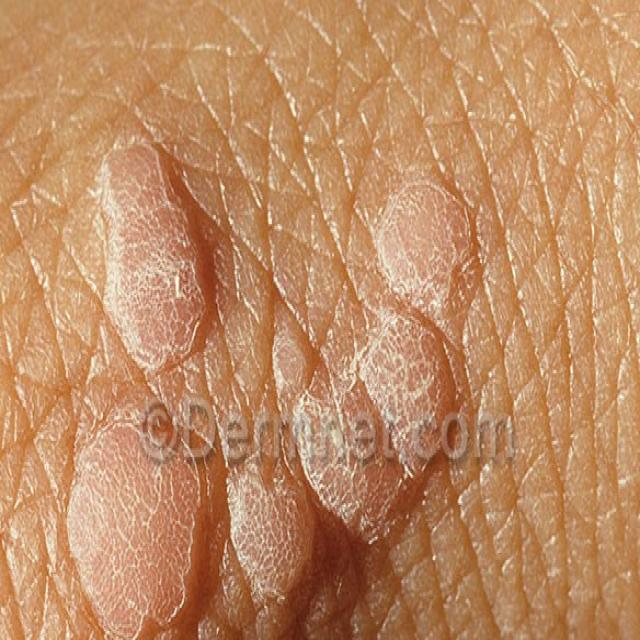Warts: (67, 112, 469, 640)
